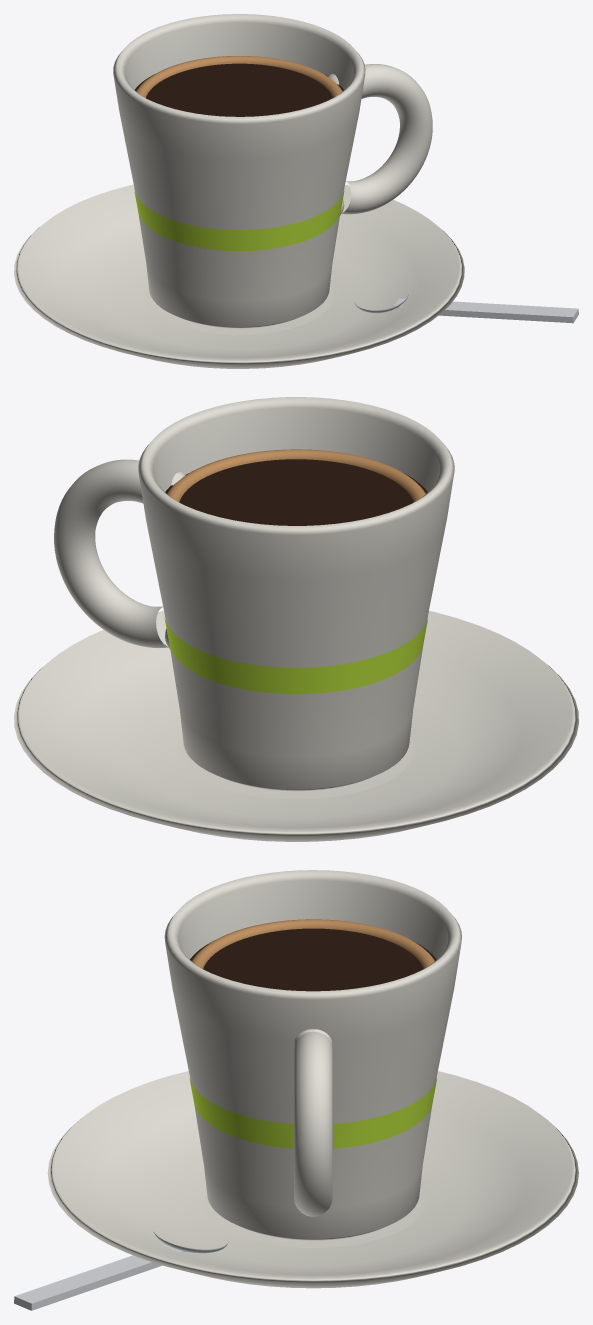
Rendered from loot-coffee-cup.glb.
The picture shows the model from 3 angles, top to bottom: view 1: azimuth 30°, elevation 25°; view 2: azimuth 150°, elevation 25°; view 3: azimuth 270°, elevation 25°; orthographic projection. The views are drawn at different scales.
Parts seen in each view (by area): view 1: cup-body, saucer, coffee, handle, glaze-band, spoon-handle, crema; view 2: cup-body, saucer, coffee, handle, glaze-band, crema; view 3: cup-body, saucer, coffee, handle, glaze-band, crema, spoon-handle.
Part boxes in pixels (x1,y1,x2,y2): cup-body: [113, 14, 365, 328]; saucer: [14, 184, 464, 368]; coffee: [135, 63, 343, 116]; handle: [341, 64, 432, 214]; glaze-band: [134, 190, 344, 250]; spoon-handle: [393, 298, 578, 323]; crema: [136, 56, 342, 97]; cup-body: [138, 397, 454, 791]; saucer: [14, 611, 578, 841]; coffee: [165, 459, 427, 525]; handle: [54, 459, 168, 648]; glaze-band: [164, 618, 427, 694]; crema: [167, 449, 425, 502]; cup-body: [164, 870, 461, 1240]; saucer: [47, 1071, 578, 1288]; coffee: [190, 928, 436, 991]; handle: [294, 1031, 332, 1216]; glaze-band: [189, 1078, 437, 1148]; crema: [192, 919, 434, 968]; spoon-handle: [14, 1244, 186, 1310].
Size of the model in its own units: 0.1595 by 0.0915 by 0.1595.
